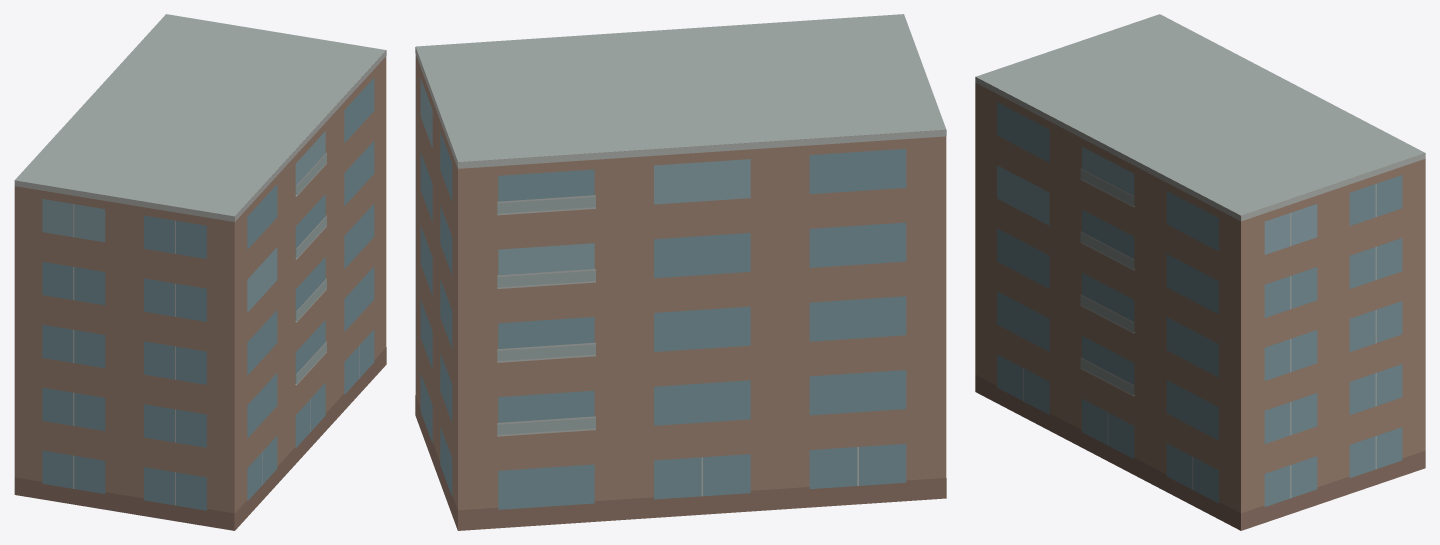
Rendered from survey-upis-32985919.glb.
3 views of the same model, side by side, from view 1: azimuth 30°, elevation 25°; view 2: azimuth 150°, elevation 25°; view 3: azimuth 270°, elevation 25° (orthographic). The views are drawn at different scales.
Parts seen in each view (by area): view 1: survey-upis-32985919.tmp; view 2: survey-upis-32985919.tmp; view 3: survey-upis-32985919.tmp.
Part boxes in pixels (box(x1,y1,x2,y2)): survey-upis-32985919.tmp: box(14, 14, 386, 530); survey-upis-32985919.tmp: box(415, 14, 946, 530); survey-upis-32985919.tmp: box(975, 14, 1425, 530).
Bounding box in the file's own units: 18.4 × 13.4 × 17.35.
